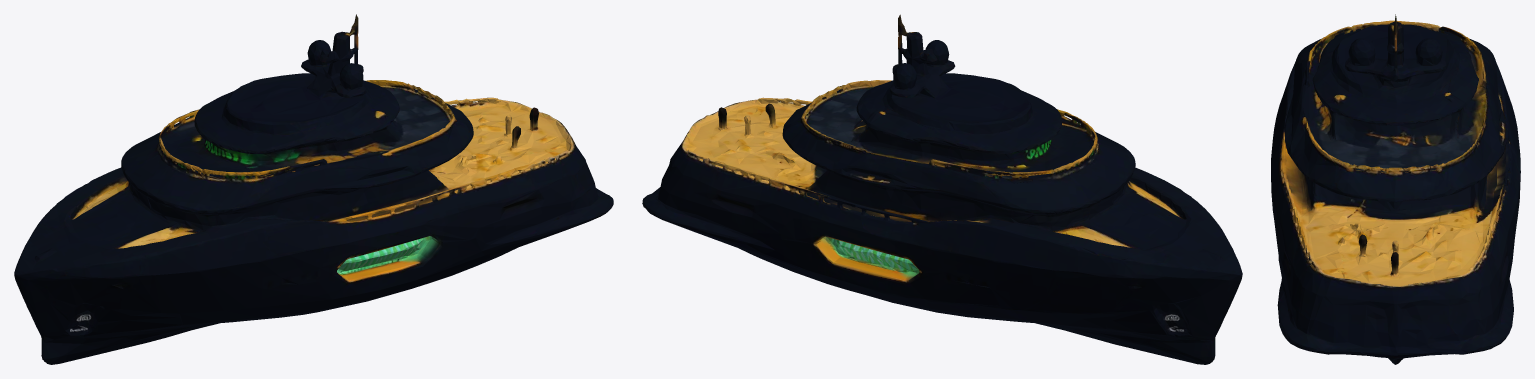
Rendered from veh-ocean-superyacht.glb.
3 renders of one model, left to right at view 1: azimuth 30°, elevation 25°; view 2: azimuth 150°, elevation 25°; view 3: azimuth 270°, elevation 25°, orthographic. The views are drawn at different scales.
Visible parts, largest first — view 1: material; view 2: material; view 3: material.
Boxes of the visible parts, x1,y1,x2,y2 form: material: [14, 14, 613, 364]; material: [642, 14, 1242, 364]; material: [1271, 14, 1520, 364].
Bounding box in the file's own units: 1.14 × 0.5398 × 0.4143.
Materials: 1 (1 with a texture image).
